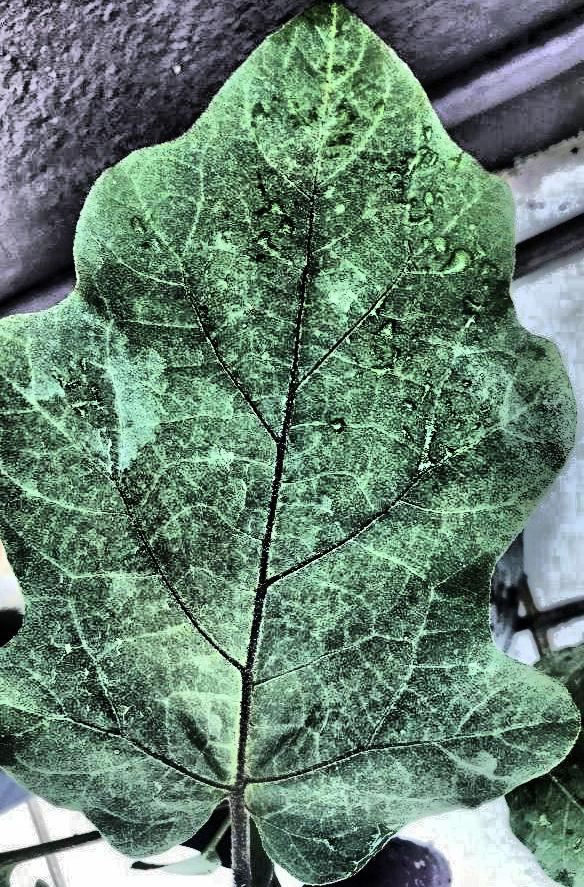HEALTHY: (1, 1, 584, 887)
